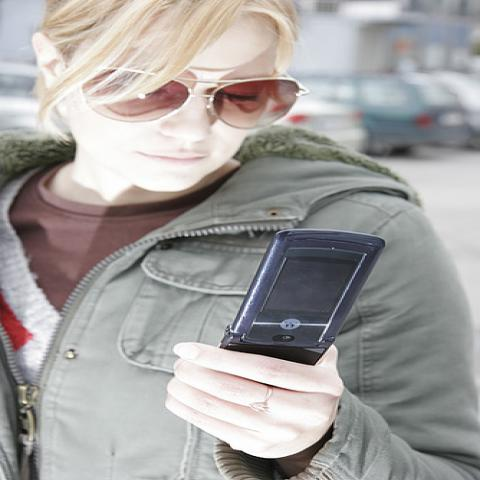car: (291, 74, 473, 156), (275, 101, 368, 153), (2, 57, 45, 138)
